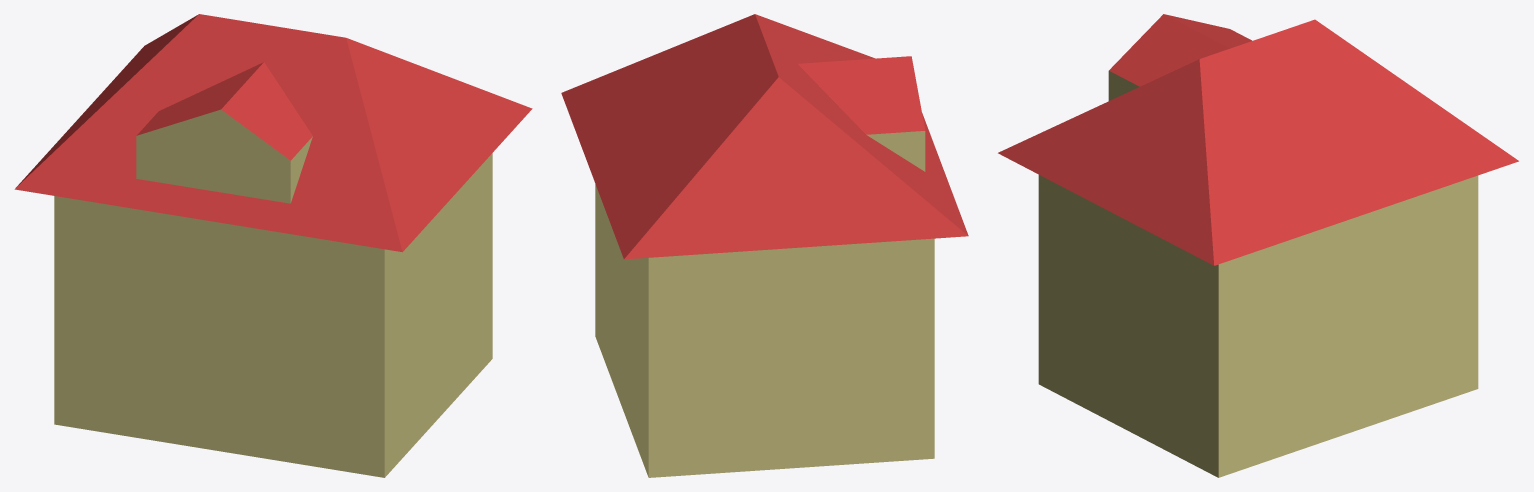
3 views of the same model, side by side, from view 1: azimuth 30°, elevation 25°; view 2: azimuth 150°, elevation 25°; view 3: azimuth 270°, elevation 25° (orthographic). The views are drawn at different scales.
Parts seen in each view (by area): view 1: group_7, group_3, group_6, group_5, group_4; view 2: group_7, group_3, group_6, group_4, group_5; view 3: group_7, group_3, group_6, group_4.
Boxes of the visible parts, box(x1,y1,x2,y2) form: group_7: box(54, 153, 492, 477); group_3: box(15, 14, 532, 252); group_6: box(15, 40, 530, 251); group_5: box(136, 109, 312, 203); group_4: box(136, 62, 312, 160); group_7: box(595, 184, 934, 477); group_3: box(561, 14, 968, 259); group_6: box(561, 75, 968, 258); group_4: box(798, 56, 925, 134); group_5: box(866, 131, 925, 171); group_7: box(1038, 175, 1478, 477); group_3: box(998, 19, 1518, 265); group_6: box(999, 131, 1517, 265); group_4: box(1109, 14, 1252, 86).
Size of the model in its own units: 17.55 by 17.79 by 13.04.
